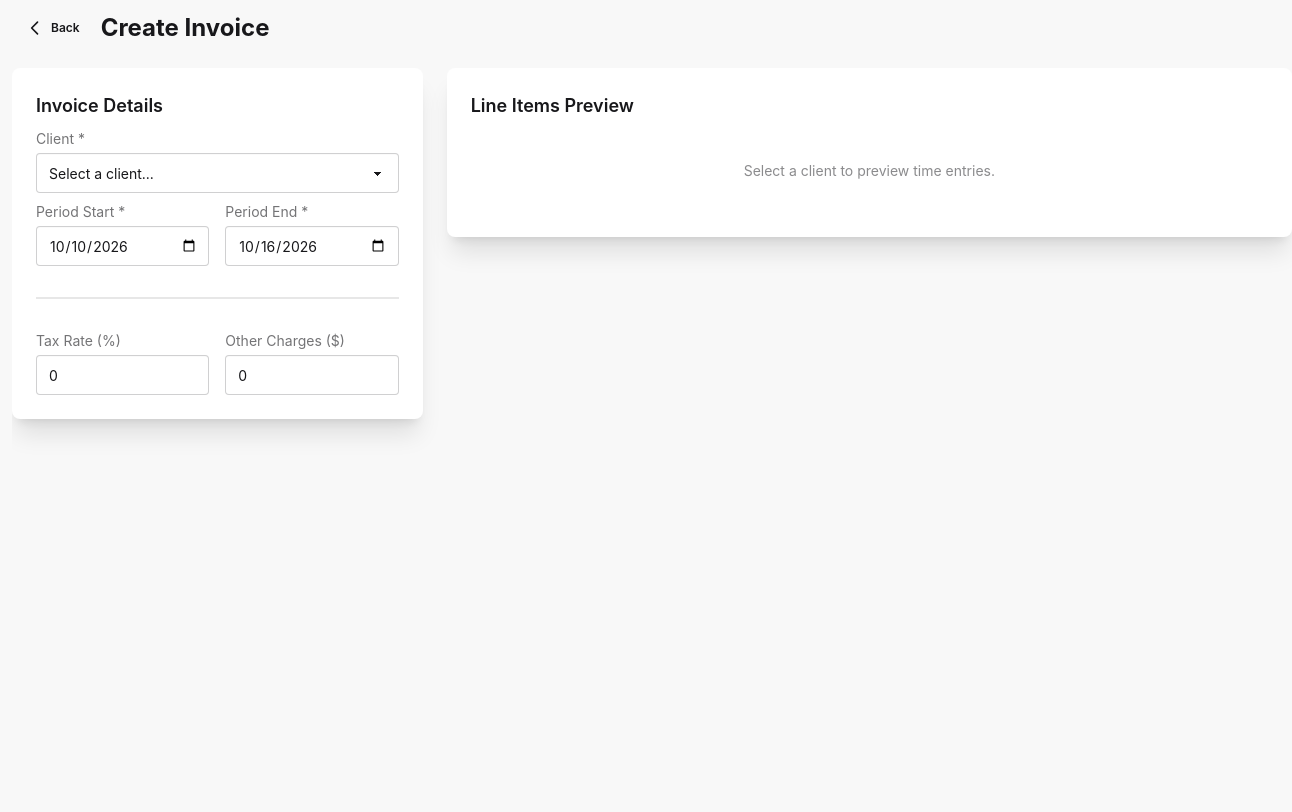
Test: CreateInvoice - combined line items › toggles all source entries atomically when a combined row's checkbox is clicked
The image size is (1292, 812).
Select "Acme Corp ($150.00/hr)" in the dropdown: (217, 173) [36, 153, 399, 193]
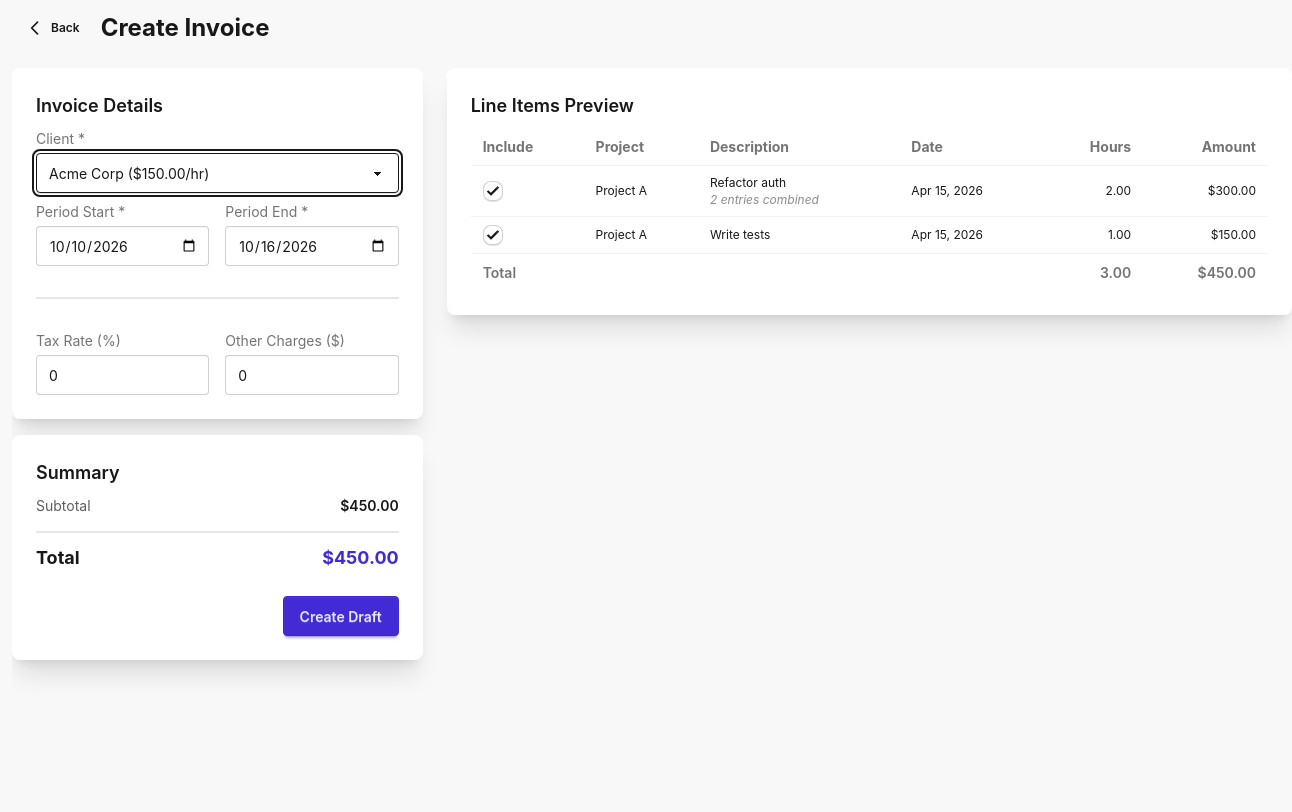
Expected: the text "Refactor auth" is shown, [710, 175, 786, 190]
Expected: the text "3.00" is shown, [1044, 253, 1143, 291]
Click the checkbox in the row of "Refactor auth": (493, 191) [483, 181, 503, 201]
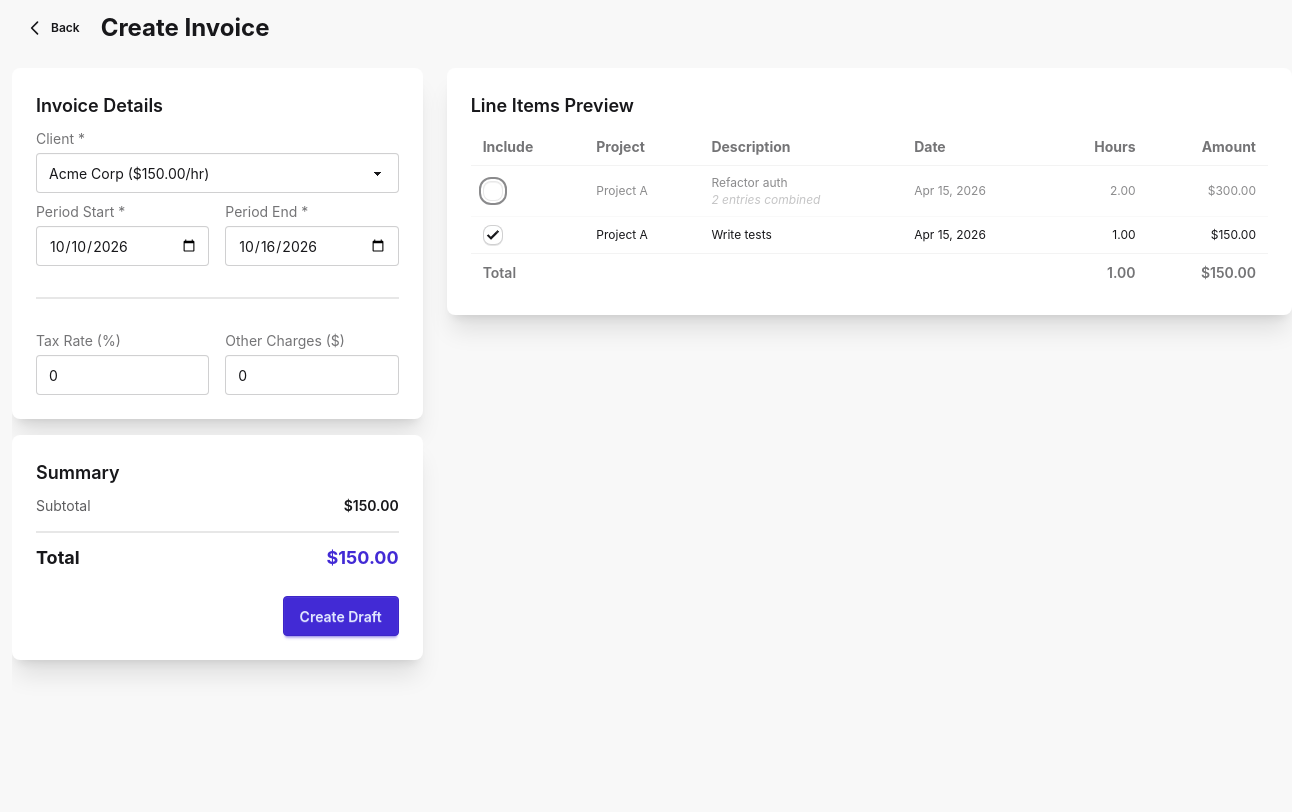
Expected: the checkbox in the row of "Refactor auth" is not checked, [483, 181, 503, 201]
Expected: the checkbox in the row of "Write tests" is checked, [483, 225, 503, 245]
Expected: the text "3.00" is gone
